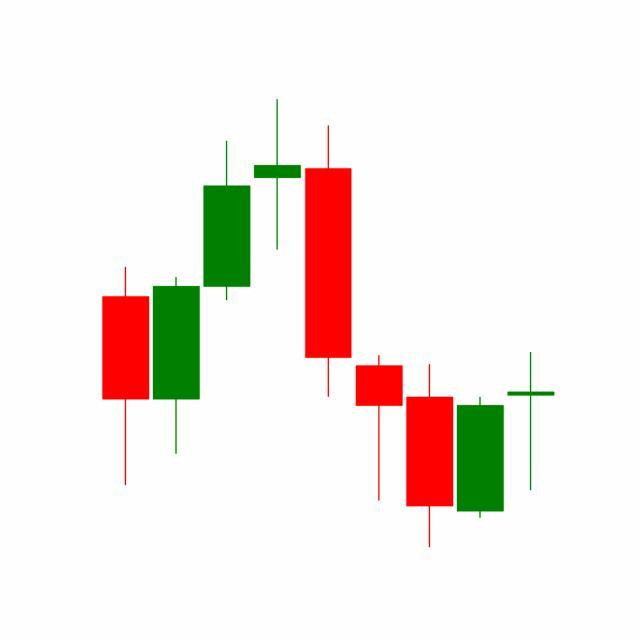Hikkake Pattern: (302, 121, 555, 549)
